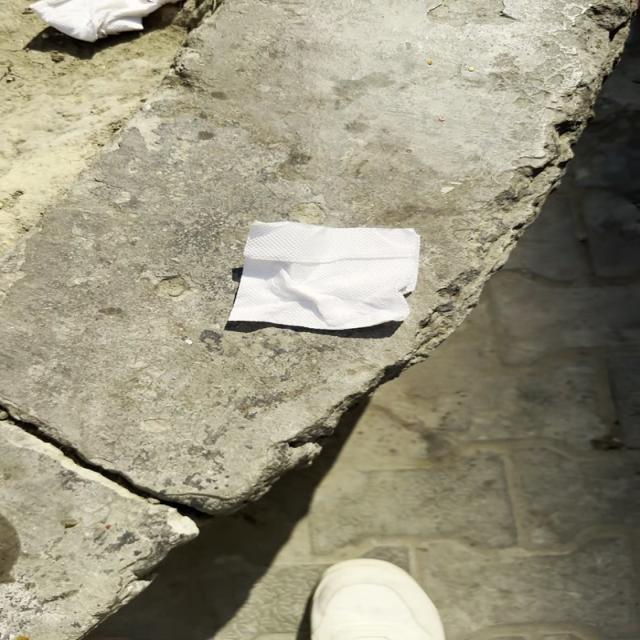tissue: (219, 222, 432, 332)
